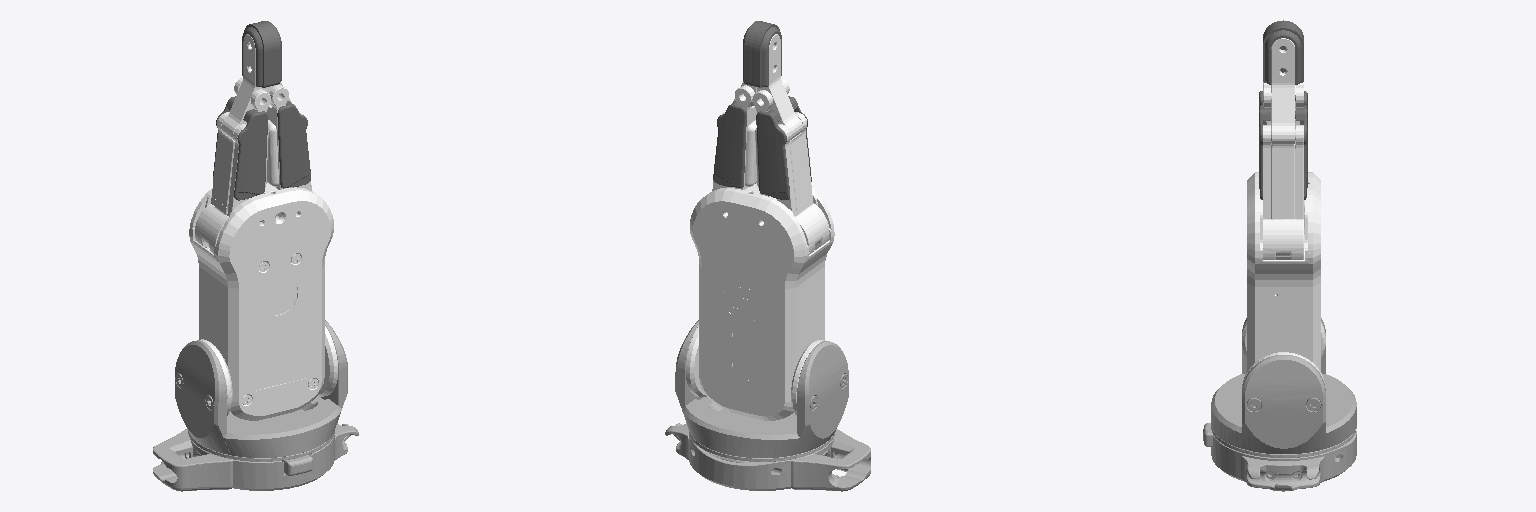
The robot description file, URDF, robot "onrobot_rg2":
<?xml version="1.0" encoding="utf-8"?>
<!-- This URDF was automatically created by SolidWorks to URDF Exporter! Originally created by Stephen Brawner (brawner@gmail.com) 
     Commit Version: 1.6.0-4-g7f85cfe  Build Version: 1.6.7995.38578
     For more information, please see http://wiki.ros.org/sw_urdf_exporter -->
<robot
  name="onrobot_rg2">
  <link
    name="base_link">
    <inertial>
      <origin
        xyz="-0.00131198418656629 -0.000556731965880301 0.0176321259155524"
        rpy="0 0 0" />
      <mass
        value="0.193451999968638" />
      <inertia
        ixx="5.90803630433479E-05"
        ixy="-1.71397505073997E-08"
        ixz="3.54830418963831E-07"
        iyy="5.66555282982983E-05"
        iyz="-1.97668620237827E-07"
        izz="9.97553228051711E-05" />
    </inertial>
    <visual>
      <origin
        xyz="0 0 0"
        rpy="0 0 0" />
      <geometry>
        <mesh
          filename="package://onrobot_rg2/meshes/base_link.STL" />
      </geometry>
      <material
        name="">
        <color
          rgba="0.752941176470588 0.752941176470588 0.752941176470588 1" />
      </material>
    </visual>
    <collision>
      <origin
        xyz="0 0 0"
        rpy="0 0 0" />
      <geometry>
        <mesh
          filename="package://onrobot_rg2/meshes/base_link.STL" />
      </geometry>
    </collision>
  </link>
  <link
    name="body_link">
    <inertial>
      <origin
        xyz="0.0361404290088884 -4.28195287969727E-05 -5.16032341026391E-05"
        rpy="0 0 0" />
      <mass
        value="0.463836579743255" />
      <inertia
        ixx="0.000112619382113841"
        ixy="-2.64039125247071E-06"
        ixz="4.11872244580003E-07"
        iyy="0.000394091945870666"
        iyz="2.70518016902612E-08"
        izz="0.000318367398754903" />
    </inertial>
    <visual>
      <origin
        xyz="0 0 0"
        rpy="0 0 0" />
      <geometry>
        <mesh
          filename="package://onrobot_rg2/meshes/body_link.STL" />
      </geometry>
      <material
        name="">
        <color
          rgba="1 1 1 1" />
      </material>
    </visual>
    <collision>
      <origin
        xyz="0 0 0"
        rpy="0 0 0" />
      <geometry>
        <mesh
          filename="package://onrobot_rg2/meshes/body_link.STL" />
      </geometry>
    </collision>
  </link>
  <joint
    name="body_joint"
    type="revolute">
    <origin
      xyz="0 0 0.04734"
      rpy="0 -1.5707963267949 0" />
    <parent
      link="base_link" />
    <child
      link="body_link" />
    <axis
      xyz="0 0 -1" />
    <limit
      lower="-1.57079632679"
      upper="1.57079632679"
      effort="0"
      velocity="0" />
  </joint>


  <!-- ================= right_outer_proximal_finger_link ================= -->

  <link
    name="right_outer_proximal_finger_link">
    <inertial>
      <origin
        xyz="0.0549431524395903 -0.00249999999999203 0.000300000004998558"
        rpy="0 0 0" />
      <mass
        value="0.000949825473476506" />
      <inertia
        ixx="4.40551301449513E-09"
        ixy="2.09495677045624E-24"
        ixz="2.06150514093411E-24"
        iyy="4.40551301449514E-09"
        iyz="-7.79803711667657E-24"
        izz="6.16606121744734E-09" />
    </inertial>
    <visual>
      <origin
        xyz="0 0 0"
        rpy="0 0 0" />
      <geometry>
        <mesh
          filename="package://onrobot_rg2/meshes/left_outer_proximal_finger_link.STL" />
      </geometry>
      <material
        name="">
        <color
          rgba="1 1 1 1" />
      </material>
    </visual>
    <collision>
      <origin
        xyz="0 0 0"
        rpy="0 0 0" />
      <geometry>
        <mesh
          filename="package://onrobot_rg2/meshes/left_outer_proximal_finger_link.STL" />
      </geometry>
    </collision>
  </link>
  <joint
    name="finger_joint"
    type="revolute">
    <origin
      xyz="0.076 0 0.01695"
      rpy="1.5708 0 0" />
    <parent
      link="body_link" />
    <child
      link="right_outer_proximal_finger_link" />
    <axis
      xyz="0 0 1" />
    <limit
      lower="0"
      upper="1.22277767395"
      effort="140"
      velocity="3.14" />
  </joint>

  <!-- ================= right finger cover ================= -->

  <link
    name="right_finger_cover_arm_link">
    <inertial>
      <origin
        xyz="0.00402747500688258 -0.00226575451595132 7.49786625480784E-05"
        rpy="0 0 0" />
      <mass
        value="0.000275378490192093" />
      <inertia
        ixx="2.51597692156251E-09"
        ixy="1.29593094681286E-09"
        ixz="-2.29982206511419E-14"
        iyy="4.0362519379352E-09"
        iyz="1.60986576546714E-14"
        izz="3.79488588774442E-09" />
    </inertial>
    <visual>
      <origin
        xyz="0 0 0"
        rpy="0 0 0" />
      <geometry>
        <mesh
          filename="package://onrobot_rg2/meshes/left_finger_cover_arm_link.STL" />
      </geometry>
      <material
        name="">
        <color
          rgba="0.501960784313725 0.501960784313725 0.501960784313725 1" />
      </material>
    </visual>
    <collision>
      <origin
        xyz="0 0 0"
        rpy="0 0 0" />
      <geometry>
        <mesh
          filename="package://onrobot_rg2/meshes/left_finger_cover_arm_link.STL" />
      </geometry>
    </collision>
  </link>
  <joint
    name="right_finger_cover_arm_joint"
    type="continuous">
    <origin
      xyz="0.0200247913038149 8.99497540430838E-05 0"
      rpy="0 0 0" />
    <parent
      link="right_outer_proximal_finger_link" />
    <child
      link="right_finger_cover_arm_link" />
    <axis
      xyz="0 0 1" />
    <mimic
      joint="finger_joint"
      multiplier="-1"
      offset="0" />
  </joint>
  <link
    name="right_finger_cover_link">
    <inertial>
      <origin
        xyz="0.0160456742219451 -0.00117289097565787 0.000299987923847552"
        rpy="0 0 0" />
      <mass
        value="0.00238596228059738" />
      <inertia
        ixx="4.39898697731722E-08"
        ixy="3.09574885566677E-08"
        ixz="7.78954430157744E-14"
        iyy="3.9272551878155E-07"
        iyz="-5.00980257567142E-14"
        izz="4.310453229369E-07" />
    </inertial>
    <visual>
      <origin
        xyz="0 0 0"
        rpy="0 0 0" />
      <geometry>
        <mesh
          filename="package://onrobot_rg2/meshes/left_finger_cover_link.STL" />
      </geometry>
      <material
        name="">
        <color
          rgba="0.501960784313725 0.501960784313725 0.501960784313725 1" />
      </material>
    </visual>
    <collision>
      <origin
        xyz="0 0 0"
        rpy="0 0 0" />
      <geometry>
        <mesh
          filename="package://onrobot_rg2/meshes/left_finger_cover_link.STL" />
      </geometry>
    </collision>
  </link>
  <joint
    name="right_finger_cover_joint"
    type="continuous">
    <origin
      xyz="0.0082499964519562 -0.0047500061623866 0"
      rpy="0 0 0" />
    <parent
      link="right_finger_cover_arm_link" />
    <child
      link="right_finger_cover_link" />
    <axis
      xyz="0 0 1" />
    <mimic
      joint="finger_joint"
      multiplier="1"
      offset="0" />
  </joint>

  <!-- ================= right_finger_base_link ================= -->

  <link
    name="right_finger_base_link">
    <inertial>
      <origin
        xyz="0.0190391495388182 -0.00734945969008528 0.000300005016238398"
        rpy="0 0 0" />
      <mass
        value="0.0113435416196245" />
      <inertia
        ixx="3.81411331619534E-07"
        ixy="5.77709795343558E-07"
        ixz="1.00938104078554E-13"
        iyy="2.42489387459591E-06"
        iyz="2.12234135605753E-13"
        izz="2.56166646481153E-06" />
    </inertial>
    <visual>
      <origin
        xyz="0 0 0"
        rpy="0 0 0" />
      <geometry>
        <mesh
          filename="package://onrobot_rg2/meshes/left_finger_base_link.STL" />
      </geometry>
      <material
        name="">
        <color
          rgba="1 1 1 1" />
      </material>
    </visual>
    <collision>
      <origin
        xyz="0 0 0"
        rpy="0 0 0" />
      <geometry>
        <mesh
          filename="package://onrobot_rg2/meshes/left_finger_base_link.STL" />
      </geometry>
    </collision>
  </link>
  <joint
    name="right_finger_base_joint"
    type="continuous">
    <origin
      xyz="0.0549431524395901 -0.00249999999999208 0"
      rpy="0 0 0" />
    <parent
      link="right_outer_proximal_finger_link" />
    <child
      link="right_finger_base_link" />
    <axis
      xyz="0 0 1" />
    <mimic
      joint="finger_joint"
      multiplier="-1"
      offset="0" />
  </joint>

  <!-- ================= right fingertip link ================= -->

  <link
    name="right_finger_tip_link">
    <inertial>
      <origin
        xyz="0.000874448371820824 -2.28131673908659E-09 0.000216515486391504"
        rpy="0 0 0" />
      <mass
        value="0.004350525975552" />
      <inertia
        ixx="1.83172636303896E-07"
        ixy="4.94040580376697E-14"
        ixz="3.25324283899849E-09"
        iyy="3.17534542484979E-07"
        iyz="-1.30290439090972E-13"
        izz="4.52560677067772E-07" />
    </inertial>
    <visual>
      <origin
        xyz="0 0 0"
        rpy="0 0 0" />
      <geometry>
        <mesh
          filename="package://onrobot_rg2/meshes/fingertip_standard_link.STL" />
      </geometry>
      <material
        name="">
        <color
          rgba="0.501960784313725 0.501960784313725 0.501960784313725 1" />
      </material>
    </visual>
    <collision>
      <origin
        xyz="0 0 0"
        rpy="0 0 0" />
      <geometry>
        <mesh
          filename="package://onrobot_rg2/meshes/fingertip_standard_link.STL" />
      </geometry>
    </collision>
  </link>
  <joint
    name="right_finger_tip_joint"
    type="fixed">
    <origin
      xyz="0.0365000000000001 -0.0144999999999998 0.0003000000049987"
      rpy="1.5707963267949 0 0" />
    <parent
      link="right_finger_base_link" />
    <child
      link="right_finger_tip_link" />
    <axis
      xyz="0 0 0" />
  </joint>

  <!-- ================= left_outer_proximal_finger_link ================= -->

  <link
    name="left_outer_proximal_finger_link">
    <inertial>
      <origin
        xyz="0.0549431524395895 -0.00249999999999233 -0.000300000004998667"
        rpy="0 0 0" />
      <mass
        value="0.000949825473476506" />
      <inertia
        ixx="4.40551301449514E-09"
        ixy="-5.35328244924947E-24"
        ixz="2.43481133533544E-24"
        iyy="4.40551301449513E-09"
        iyz="5.10866980805369E-25"
        izz="6.16606121744734E-09" />
    </inertial>
    <visual>
      <origin
        xyz="0 0 0"
        rpy="0 0 0" />
      <geometry>
        <mesh
          filename="package://onrobot_rg2/meshes/right_outer_proximal_finger_link.STL" />
      </geometry>
      <material
        name="">
        <color
          rgba="1 1 1 1" />
      </material>
    </visual>
    <collision>
      <origin
        xyz="0 0 0"
        rpy="0 0 0" />
      <geometry>
        <mesh
          filename="package://onrobot_rg2/meshes/right_outer_proximal_finger_link.STL" />
      </geometry>
    </collision>
  </link>
  <joint
    name="left_outer_proximal_finger_joint"
    type="revolute">
    <origin
      xyz="0.0759999999999999 0 -0.0170499999950017"
      rpy="-1.5707963267949 0 0" />
    <parent
      link="body_link" />
    <child
      link="left_outer_proximal_finger_link" />
    <axis
      xyz="0 0 1" />
    <limit
      lower="0"
      upper="0"
      effort="0"
      velocity="0" />
    <mimic
      joint="finger_joint"
      multiplier="1"
      offset="0" />
  </joint>

  <!-- ================= left finger cover================= -->

  <link
    name="left_finger_cover_arm_link">
    <inertial>
      <origin
        xyz="0.00398155371535758 -0.00234551241087921 -0.000524978662517488"
        rpy="0 0 0" />
      <mass
        value="0.0002753784901893" />
      <inertia
        ixx="2.52764072470494E-09"
        ixy="1.30270225418703E-09"
        ixz="2.54692664978612E-14"
        iyy="4.02458813479656E-09"
        iyz="-1.18068992924501E-14"
        izz="3.79488588772191E-09" />
    </inertial>
    <visual>
      <origin
        xyz="0 0 0"
        rpy="0 0 0" />
      <geometry>
        <mesh
          filename="package://onrobot_rg2/meshes/right_finger_cover_arm_link.STL" />
      </geometry>
      <material
        name="">
        <color
          rgba="0.501960784313725 0.501960784313725 0.501960784313725 1" />
      </material>
    </visual>
    <collision>
      <origin
        xyz="0 0 0"
        rpy="0 0 0" />
      <geometry>
        <mesh
          filename="package://onrobot_rg2/meshes/right_finger_cover_arm_link.STL" />
      </geometry>
    </collision>
  </link>
  <joint
    name="left_finger_cover_arm_joint"
    type="continuous">
    <origin
      xyz="0.0200247913038149 8.99497540546232E-05 0"
      rpy="0 0 0" />
    <parent
      link="left_outer_proximal_finger_link" />
    <child
      link="left_finger_cover_arm_link" />
    <axis
      xyz="0 0 1" />
    <mimic
      joint="finger_joint"
      multiplier="-1"
      offset="0" />
  </joint>
  <link
    name="left_finger_cover_link">
    <inertial>
      <origin
        xyz="0.0160456222550394 -0.00117286244301727 -0.010813408882006"
        rpy="0 0 0" />
      <mass
        value="0.00119298249046695" />
      <inertia
        ixx="2.1995729016884E-08"
        ixy="1.5479102227688E-08"
        ixz="-1.63237337618954E-09"
        iyy="1.96363375879819E-07"
        iyz="-2.13914442228796E-11"
        izz="2.15524077561246E-07" />
    </inertial>
    <visual>
      <origin
        xyz="0 0 0"
        rpy="0 0 0" />
      <geometry>
        <mesh
          filename="package://onrobot_rg2/meshes/right_finger_cover_link.STL" />
      </geometry>
      <material
        name="">
        <color
          rgba="0.501960784313725 0.501960784313725 0.501960784313725 1" />
      </material>
    </visual>
    <collision>
      <origin
        xyz="0 0 0"
        rpy="0 0 0" />
      <geometry>
        <mesh
          filename="package://onrobot_rg2/meshes/right_finger_cover_link.STL" />
      </geometry>
    </collision>
  </link>
  <joint
    name="left_finger_cover_joint"
    type="continuous">
    <origin
      xyz="0.00825 -0.00475 0"
      rpy="0 0 0" />
    <parent
      link="left_finger_cover_arm_link" />
    <child
      link="left_finger_cover_link" />
    <axis
      xyz="0 0 1" />
    <mimic
      joint="finger_joint"
      multiplier="1"
      offset="0" />
  </joint>

  <!-- ================= left_finger_base_link ================= -->

  <link
    name="left_finger_base_link">
    <inertial>
      <origin
        xyz="0.0190391495388169 -0.00734945969008521 -0.000299994993758702"
        rpy="0 0 0" />
      <mass
        value="0.0113435416196245" />
      <inertia
        ixx="3.81411331619531E-07"
        ixy="5.77709795343554E-07"
        ixz="1.00938103147903E-13"
        iyy="2.42489387459591E-06"
        iyz="2.12234135747528E-13"
        izz="2.56166646481153E-06" />
    </inertial>
    <visual>
      <origin
        xyz="0 0 0"
        rpy="0 0 0" />
      <geometry>
        <mesh
          filename="package://onrobot_rg2/meshes/right_finger_base_link.STL" />
      </geometry>
      <material
        name="">
        <color
          rgba="1 1 1 1" />
      </material>
    </visual>
    <collision>
      <origin
        xyz="0 0 0"
        rpy="0 0 0" />
      <geometry>
        <mesh
          filename="package://onrobot_rg2/meshes/right_finger_base_link.STL" />
      </geometry>
    </collision>
  </link>
  <joint
    name="left_finger_base_joint"
    type="continuous">
    <origin
      xyz="0.054943 -0.0025 0"
      rpy="0 0 0" />
    <parent
      link="left_outer_proximal_finger_link" />
    <child
      link="left_finger_base_link" />
    <axis
      xyz="0 0 1" />
    <mimic
      joint="finger_joint"
      multiplier="-1"
      offset="0" />
  </joint>

  <!-- ================= left fingertip link ================= -->


  <link
    name="left_finger_tip_link">
    <inertial>
      <origin
        xyz="0.000874448371820741 -2.28131705811308E-09 0.000216515486523525"
        rpy="0 0 0" />
      <mass
        value="0.004350525975552" />
      <inertia
        ixx="1.83172636303896E-07"
        ixy="4.94040582806086E-14"
        ixz="3.2532428389988E-09"
        iyy="3.1753454248498E-07"
        iyz="-1.30290438241341E-13"
        izz="4.52560677067773E-07" />
    </inertial>
    <visual>
      <origin
        xyz="0 0 0"
        rpy="0 0 0" />
      <geometry>
        <mesh
          filename="package://onrobot_rg2/meshes/fingertip_standard_link.STL" />
      </geometry>
      <material
        name="">
        <color
          rgba="0.501960784313725 0.501960784313725 0.501960784313725 1" />
      </material>
    </visual>
    <collision>
      <origin
        xyz="0 0 0"
        rpy="0 0 0" />
      <geometry>
        <mesh
          filename="package://onrobot_rg2/meshes/fingertip_standard_link.STL" />
      </geometry>
    </collision>
  </link>
  <joint
    name="left_finger_tip_joint"
    type="fixed">
    <origin
      xyz="0.0365 -0.0145 -0.0003"
      rpy="1.5708 0 0" />
    <parent
      link="left_finger_base_link" />
    <child
      link="left_finger_tip_link" />
    <axis
      xyz="0 0 0" />
  </joint>

  
  <!-- ================= right_inner_proximal_finger_link ================= -->

  <link
    name="right_inner_proximal_finger_link">
    <inertial>
      <origin
        xyz="0.0243420753391578 -0.00150984138335663 -1.14846121206326E-10"
        rpy="0 0 0" />
      <mass
        value="0.0110525137434334" />
      <inertia
        ixx="5.28599526468673E-07"
        ixy="1.92388035358472E-07"
        ixz="7.0084725912438E-14"
        iyy="4.58187718349257E-06"
        iyz="-1.5791947291098E-13"
        izz="4.16791084165572E-06" />
    </inertial>
    <visual>
      <origin
        xyz="0 0 0"
        rpy="0 0 0" />
      <geometry>
        <mesh
          filename="package://onrobot_rg2/meshes/left_inner_proximal_finger_link.STL" />
      </geometry>
      <material
        name="">
        <color
          rgba="1 1 1 1" />
      </material>
    </visual>
    <collision>
      <origin
        xyz="0 0 0"
        rpy="0 0 0" />
      <geometry>
        <mesh
          filename="package://onrobot_rg2/meshes/left_inner_proximal_finger_link.STL" />
      </geometry>
    </collision>
  </link>
  <joint
    name="right_inner_proximal_finger_joint"
    type="continuous">
    <origin
      xyz="0.0925000000000006 0 0.0074500000049881"
      rpy="1.57079632679489 0 0" />
    <parent
      link="body_link" />
    <child
      link="right_inner_proximal_finger_link" />
    <axis
      xyz="0 0 1" />
    <mimic
      joint="finger_joint"
      multiplier="1"
      offset="0" />
  </joint>

  <!-- ================= left_inner_proximal_finger_link ================= -->
  
  <link
    name="left_inner_proximal_finger_link">
    <inertial>
      <origin
        xyz="0.0243420753391564 -0.00150984138331514 -1.19857137688403E-10"
        rpy="0 0 0" />
      <mass
        value="0.0110525137434334" />
      <inertia
        ixx="5.28599526468524E-07"
        ixy="1.92388035356887E-07"
        ixz="7.00847294261671E-14"
        iyy="4.58187718349272E-06"
        iyz="-1.57919476311131E-13"
        izz="4.16791084165572E-06" />
    </inertial>
    <visual>
      <origin
        xyz="0 0 0"
        rpy="0 0 0" />
      <geometry>
        <mesh
          filename="package://onrobot_rg2/meshes/right_inner_proximal_finger_link.STL" />
      </geometry>
      <material
        name="">
        <color
          rgba="1 1 1 1" />
      </material>
    </visual>
    <collision>
      <origin
        xyz="0 0 0"
        rpy="0 0 0" />
      <geometry>
        <mesh
          filename="package://onrobot_rg2/meshes/right_inner_proximal_finger_link.STL" />
      </geometry>
    </collision>
  </link>
  <joint
    name="left_inner_proximal_finger_joint"
    type="continuous">
    <origin
      xyz="0.0925 0 -0.00754999999500211"
      rpy="-1.5707963267949 0 0" />
    <parent
      link="body_link" />
    <child
      link="left_inner_proximal_finger_link" />
    <axis
      xyz="0 0 1" />
    <mimic
      joint="finger_joint"
      multiplier="1"
      offset="0" />
  </joint>
</robot>

--- What the picture shows (computed from the rendered views, not written in the file) ---
3 views of the same robot in one strip: view 1: azimuth 30°, elevation 25°; view 2: azimuth 150°, elevation 25°; view 3: azimuth 270°, elevation 25° (orthographic).
Robot: onrobot_rg2 — 14 links, 13 joints (3 revolute, 8 continuous, 2 fixed); root link base_link; default pose: all joints at 0.
Links seen in each view (by area): view 1: body_link, base_link, right_outer_proximal_finger_link, right_finger_cover_link, left_finger_cover_link, right_finger_base_link, left_inner_proximal_finger_link, right_finger_tip_link, left_finger_tip_link; view 2: body_link, base_link, right_outer_proximal_finger_link, right_finger_cover_link, left_finger_cover_link, right_finger_base_link, left_inner_proximal_finger_link, right_finger_tip_link, left_finger_tip_link, right_inner_proximal_finger_link; view 3: base_link, body_link, left_outer_proximal_finger_link, left_finger_base_link, left_finger_cover_link, left_finger_tip_link.
Boxes of the visible links, x1,y1,x2,y2 form: body_link: (189, 183, 337, 420); base_link: (153, 320, 358, 491); right_outer_proximal_finger_link: (195, 112, 246, 253); right_finger_cover_link: (213, 96, 267, 200); left_finger_cover_link: (277, 101, 310, 188); right_finger_base_link: (221, 34, 267, 139); left_inner_proximal_finger_link: (267, 85, 289, 189); right_finger_tip_link: (242, 21, 279, 86); left_finger_tip_link: (244, 23, 281, 87); body_link: (686, 183, 834, 420); base_link: (665, 320, 870, 491); right_outer_proximal_finger_link: (777, 112, 829, 254); right_finger_cover_link: (756, 96, 811, 199); left_finger_cover_link: (713, 101, 746, 187); right_finger_base_link: (757, 34, 802, 139); left_inner_proximal_finger_link: (734, 85, 756, 189); right_finger_tip_link: (744, 21, 781, 86); left_finger_tip_link: (743, 23, 779, 87); right_inner_proximal_finger_link: (752, 78, 789, 199); base_link: (1203, 318, 1356, 491); body_link: (1242, 172, 1325, 387); left_outer_proximal_finger_link: (1263, 125, 1303, 259); left_finger_base_link: (1271, 38, 1294, 144); left_finger_cover_link: (1259, 105, 1307, 199); left_finger_tip_link: (1263, 20, 1303, 84).
Size in the robot's own frame: 0.1047 by 0.0749 by 0.2337 metres.
Meshes: 13 distinct files referenced, 14 mesh visuals loaded (13 binary STL).
